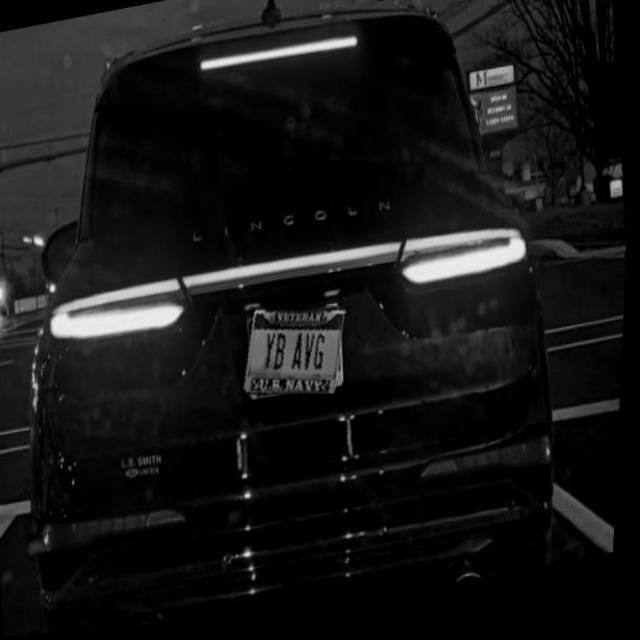LicensePlate: (244, 312, 348, 401)
